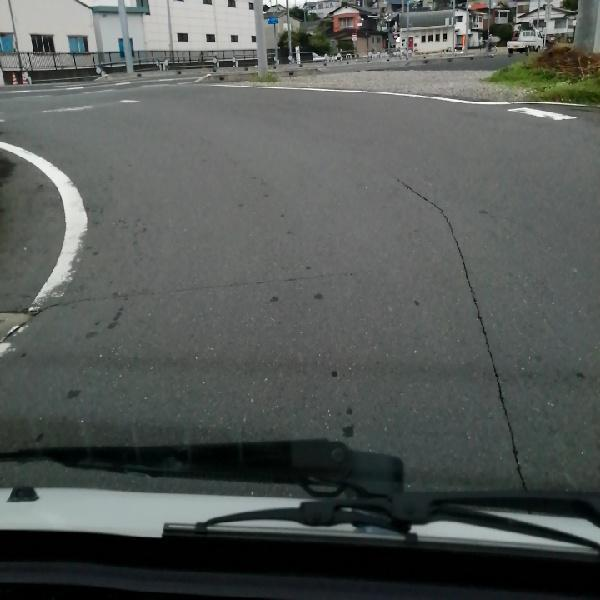D00: (404, 167, 523, 414)
D10: (47, 260, 367, 304)
